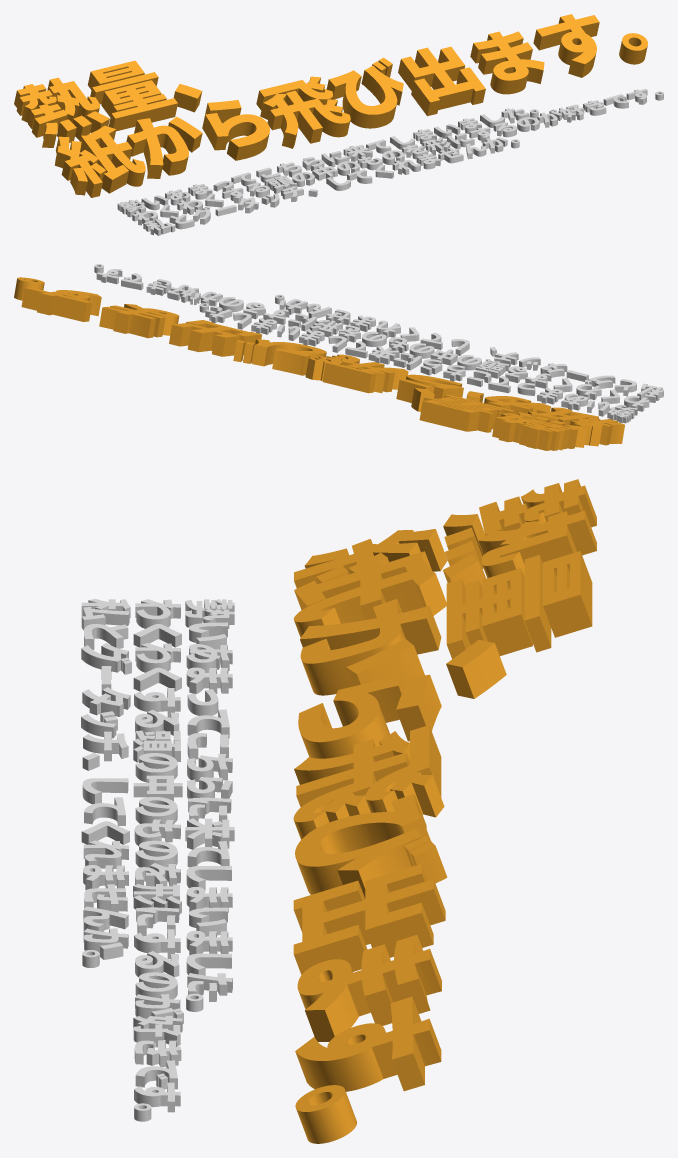
Rendered from tobiderunetu11.glb.
3 views of the same model, one above another, from view 1: azimuth 30°, elevation 25°; view 2: azimuth 150°, elevation 25°; view 3: azimuth 270°, elevation 25° (orthographic). The views are drawn at different scales.
Visible parts, largest first — view 1: 紙, 飛, 熱, 量, 出, び, ま, か, ら, す, 。, 、 (+4 smaller); view 2: ま (×5), 飛, 熱, 量, す (×2), 出, び, 紙, ら (×2), の (×4), か (×2), に (×2) (+20 smaller); view 3: ま (×4), 量, 紙, 出, 熱, 飛, か (×2), び, す, ら, の (×4), 。 (+17 smaller).
Boxes of the visible parts, bbox=[...] form: 紙: bbox=[55, 125, 145, 197]; 飛: bbox=[256, 76, 350, 148]; 熱: bbox=[14, 77, 109, 147]; 量: bbox=[88, 60, 177, 131]; 出: bbox=[398, 46, 485, 116]; び: bbox=[326, 57, 403, 128]; ま: bbox=[470, 31, 544, 94]; か: bbox=[126, 117, 202, 178]; ら: bbox=[202, 100, 269, 160]; す: bbox=[533, 14, 599, 77]; 。: bbox=[619, 33, 647, 64]; 、: bbox=[173, 84, 202, 112]; ま (×5): bbox=[99, 304, 562, 404]; 飛: bbox=[305, 354, 408, 393]; 熱: bbox=[492, 412, 586, 450]; 量: bbox=[419, 394, 514, 432]; す (×2): bbox=[21, 269, 122, 321]; 出: bbox=[169, 320, 261, 356]; び: bbox=[233, 339, 326, 375]; 紙: bbox=[528, 407, 624, 446]; ら (×2): bbox=[396, 359, 463, 402]; の (×4): bbox=[219, 297, 481, 370]; か (×2): bbox=[279, 299, 550, 414]; に (×2): bbox=[288, 313, 421, 370]; ま (×4): bbox=[83, 667, 441, 1041]; 量: bbox=[446, 551, 592, 658]; 紙: bbox=[293, 529, 447, 637]; 出: bbox=[293, 864, 445, 974]; 熱: bbox=[443, 479, 596, 586]; 飛: bbox=[293, 725, 444, 839]; か (×2): bbox=[83, 599, 441, 959]; び: bbox=[295, 794, 447, 898]; す: bbox=[295, 996, 441, 1091]; ら: bbox=[298, 674, 441, 758]; の (×4): bbox=[135, 753, 177, 999]; 。: bbox=[295, 1085, 356, 1143].
Bounding box in the file's own units: 10.92 × 1.11 × 4.28.
